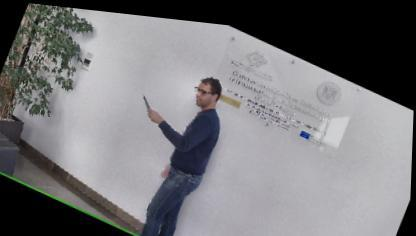knife: (135, 88, 161, 115)
